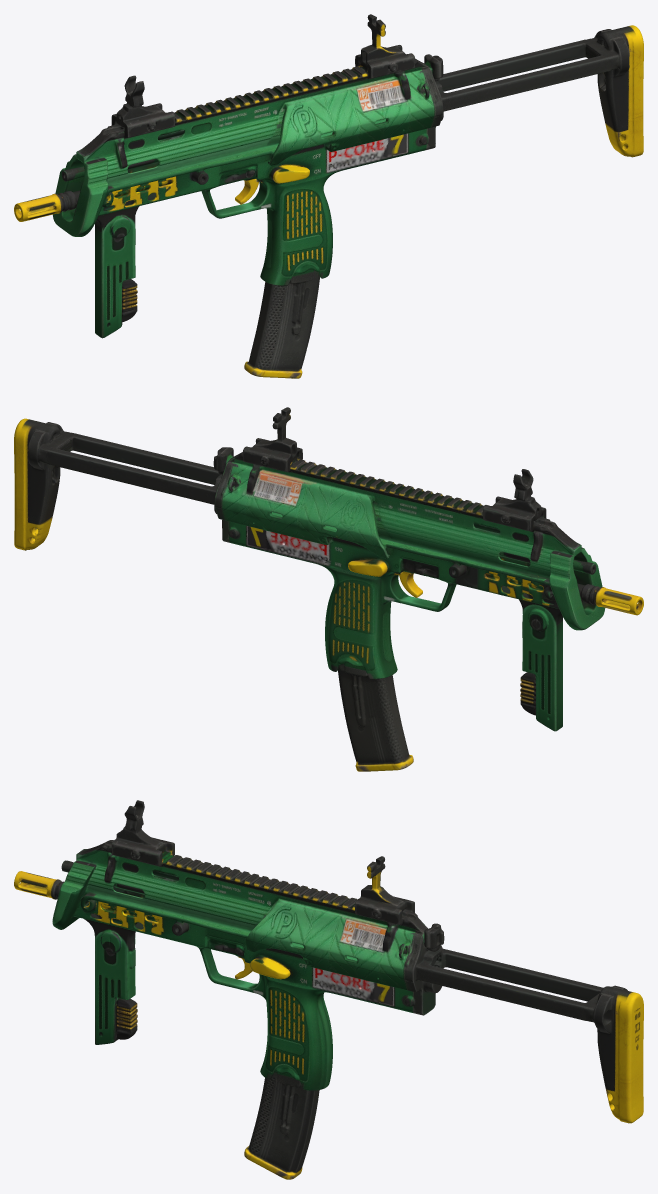
The model's file is Meshy_AI_mp7_1014152050_texture.glb.
3 renders of one model, top to bottom at view 1: azimuth 30°, elevation 25°; view 2: azimuth 150°, elevation 25°; view 3: azimuth 330°, elevation 25°, orthographic.
Bounding box in the file's own units: 1.9 × 0.9832 × 0.1707.
1 material, 1 textured.
